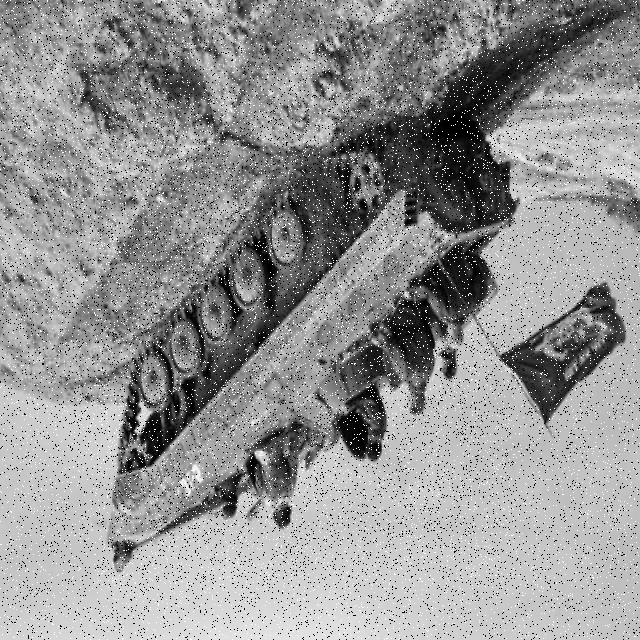MIL_MBT: (97, 89, 514, 586)
